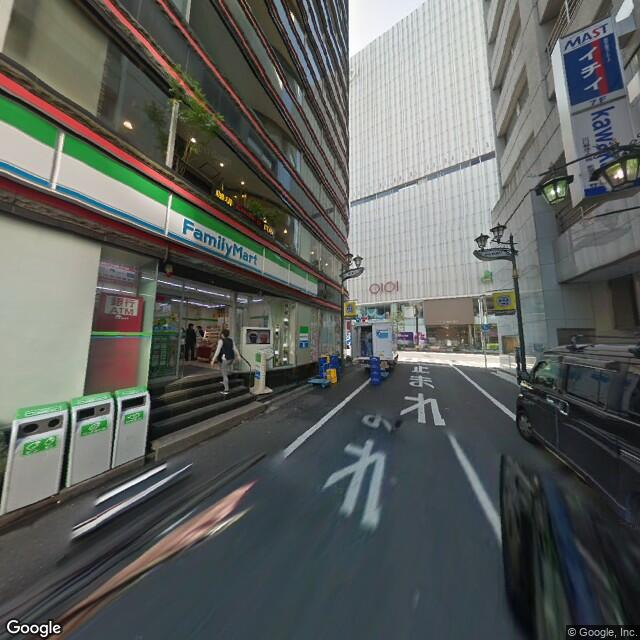family_mart: (2, 96, 322, 298), (176, 214, 261, 269), (250, 348, 265, 381), (296, 323, 312, 352)
